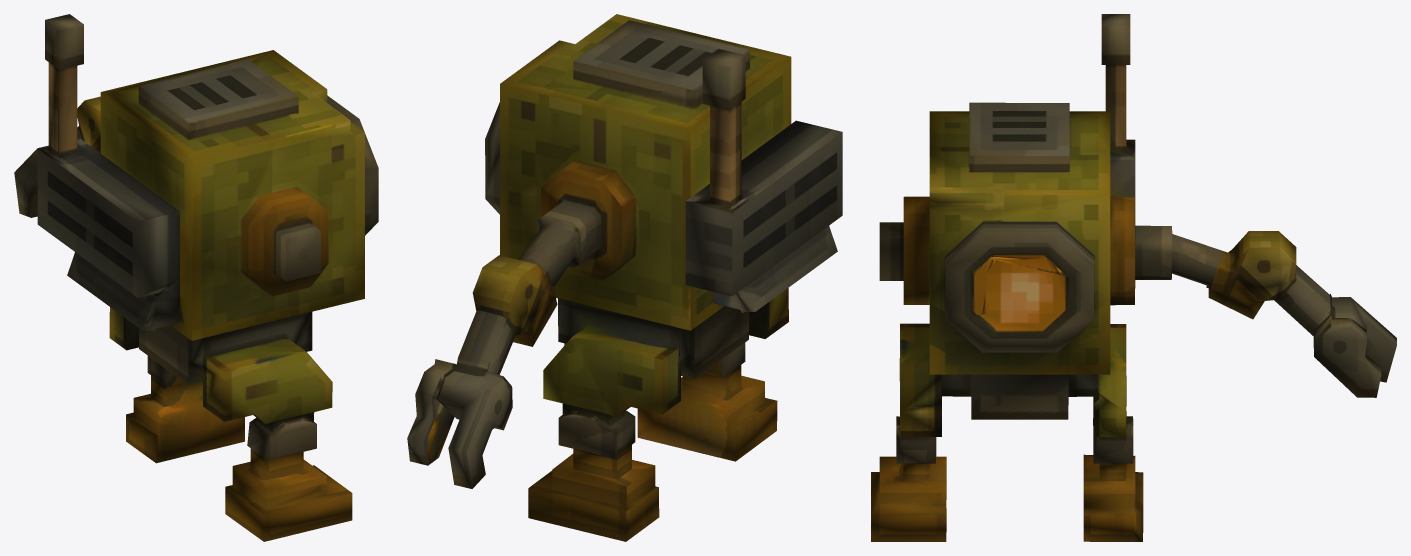
Rendered from Robot2.fbx.
The picture shows the model from 3 angles, left to right: view 1: azimuth 30°, elevation 25°; view 2: azimuth 150°, elevation 25°; view 3: azimuth 270°, elevation 25°; orthographic projection. The views are drawn at different scales.
Visible parts, largest first — view 1: tripo_node_73c07cb9; view 2: tripo_node_73c07cb9; view 3: tripo_node_73c07cb9.
Boxes of the visible parts, bbox=[...] form: tripo_node_73c07cb9: bbox=[14, 14, 378, 541]; tripo_node_73c07cb9: bbox=[407, 14, 842, 541]; tripo_node_73c07cb9: bbox=[871, 14, 1396, 541].
Size of the model in its own units: 0.5323 by 0.9291 by 0.9998.
1 material, 1 textured.
